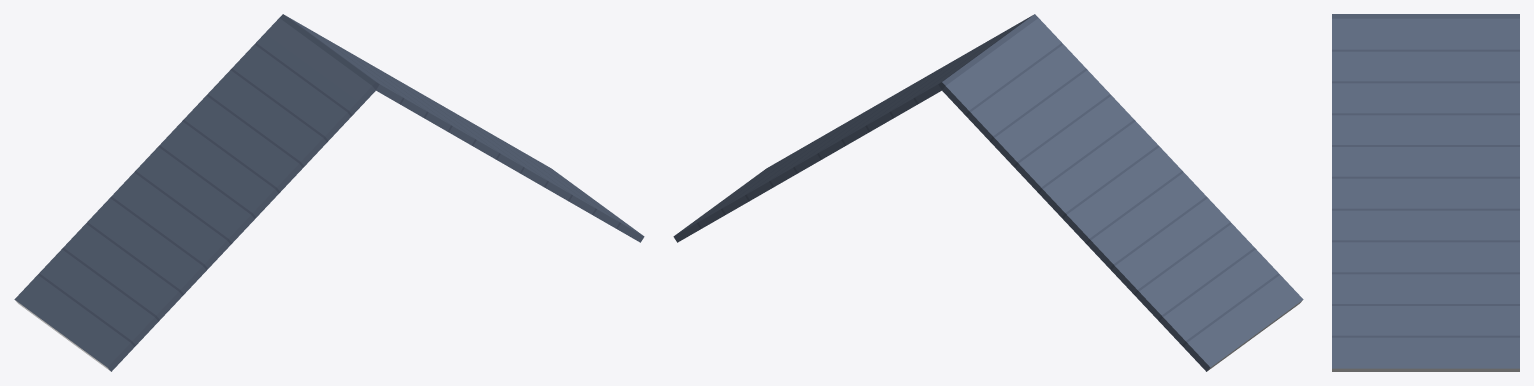
Rendered from Roof2_C4_01.fbx.
The picture shows the model from 3 angles, left to right: view 1: azimuth 30°, elevation 25°; view 2: azimuth 150°, elevation 25°; view 3: azimuth 270°, elevation 25°; orthographic projection.
Visible parts, largest first — view 1: Roof2_C4_01; view 2: Roof2_C4_01; view 3: Roof2_C4_01.
Part boxes in pixels (x1,y1,x2,y2): Roof2_C4_01: [14, 14, 644, 371]; Roof2_C4_01: [673, 14, 1303, 371]; Roof2_C4_01: [1332, 14, 1519, 371].
Size of the model in its own units: 833 by 334 by 250.
